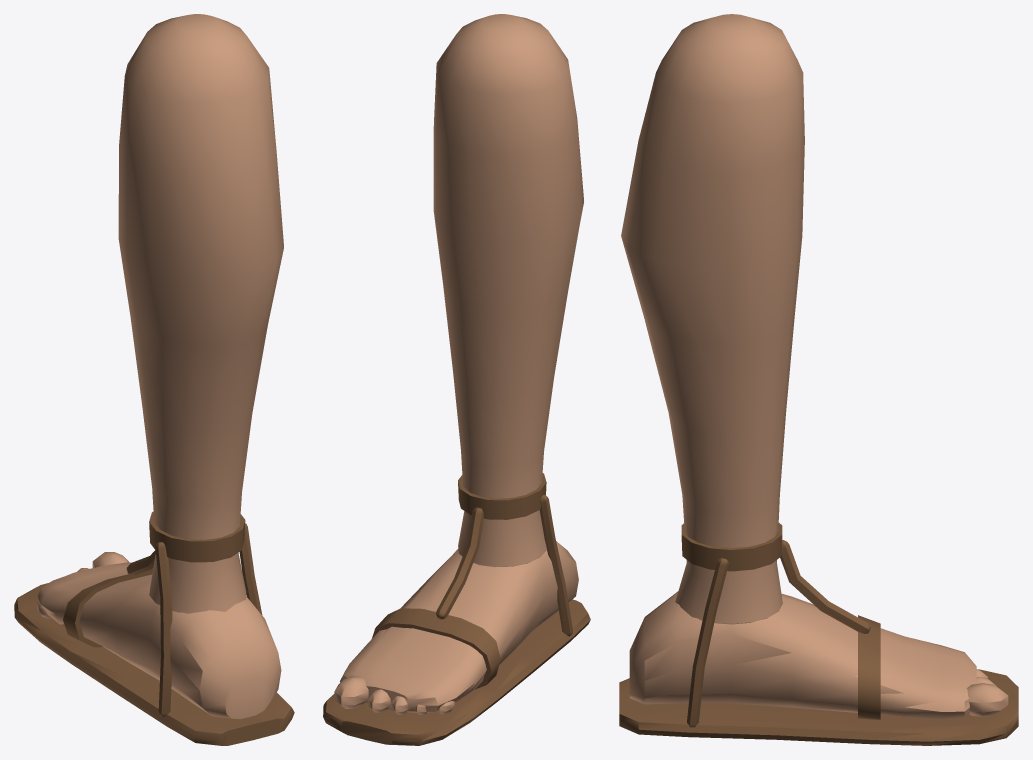
Rendered from shin_l.glb.
The picture shows the model from 3 angles, left to right: view 1: azimuth 30°, elevation 25°; view 2: azimuth 150°, elevation 25°; view 3: azimuth 270°, elevation 25°; orthographic projection. The views are drawn at different scales.
Parts seen in each view (by area): view 1: OUT; view 2: OUT; view 3: OUT.
Part boxes in pixels (bbox=[...]): OUT: bbox=[14, 14, 294, 745]; OUT: bbox=[323, 14, 590, 745]; OUT: bbox=[619, 14, 1018, 745].
Bounding box in the file's own units: 0.1149 × 0.506 × 0.266.
